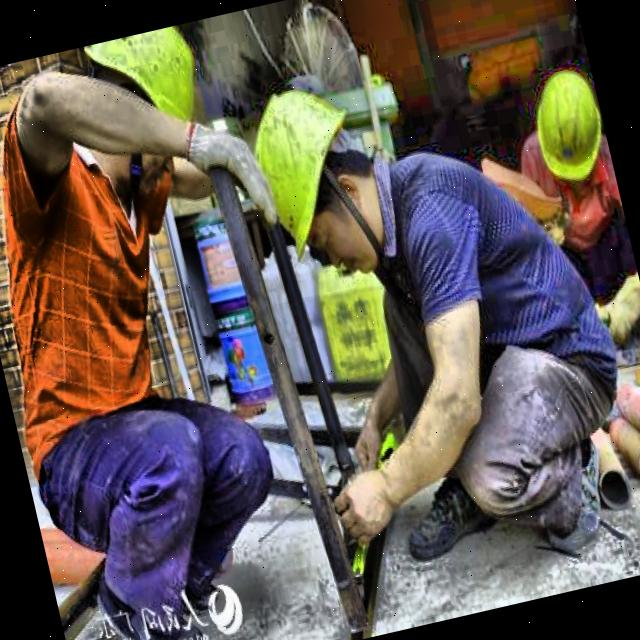helmet: (235, 66, 407, 300), (65, 23, 231, 220), (520, 63, 616, 205)
